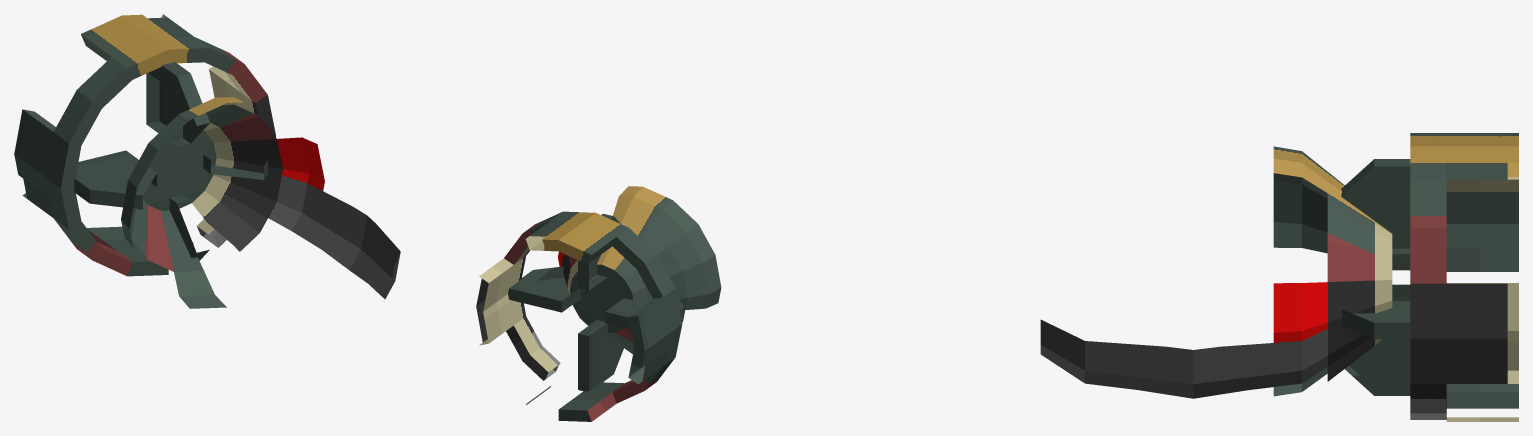
The model's file is mine_fat.obj.
The picture shows the model from 3 angles, left to right: view 1: azimuth 30°, elevation 25°; view 2: azimuth 150°, elevation 25°; view 3: azimuth 270°, elevation 25°; orthographic projection. The views are drawn at different scales.
Parts seen in each view (by area): view 1: Sphere; view 2: Sphere; view 3: Sphere.
Part boxes in pixels (x1=…): Sphere: x1=14, y1=14, x2=400, y2=308; Sphere: x1=476, y1=186, x2=721, y2=421; Sphere: x1=1040, y1=133, x2=1518, y2=421.
Size of the model in its own units: 1 by 1.47 by 2.33.
